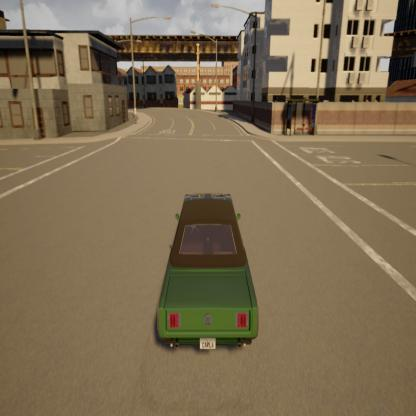Cars: (150, 154, 268, 366)
Pedestrian: (132, 102, 139, 127)
